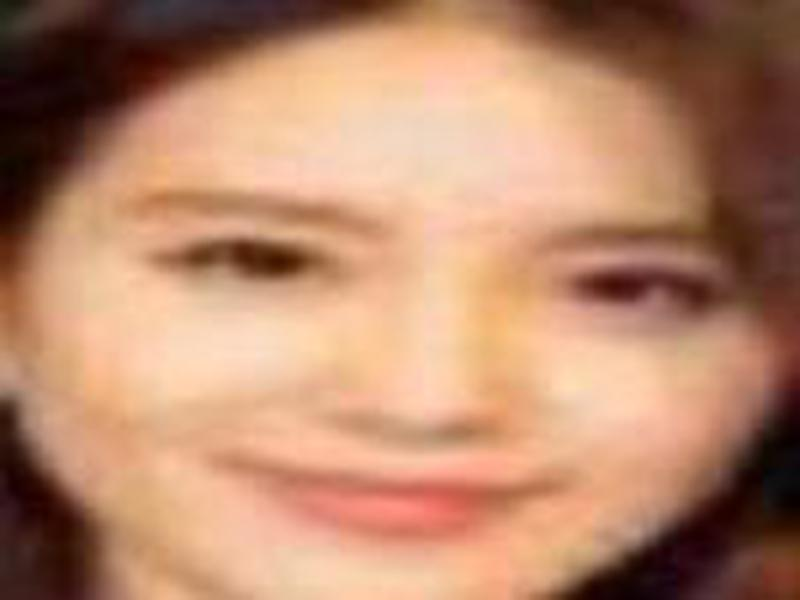without_mask: (6, 147, 789, 600)
